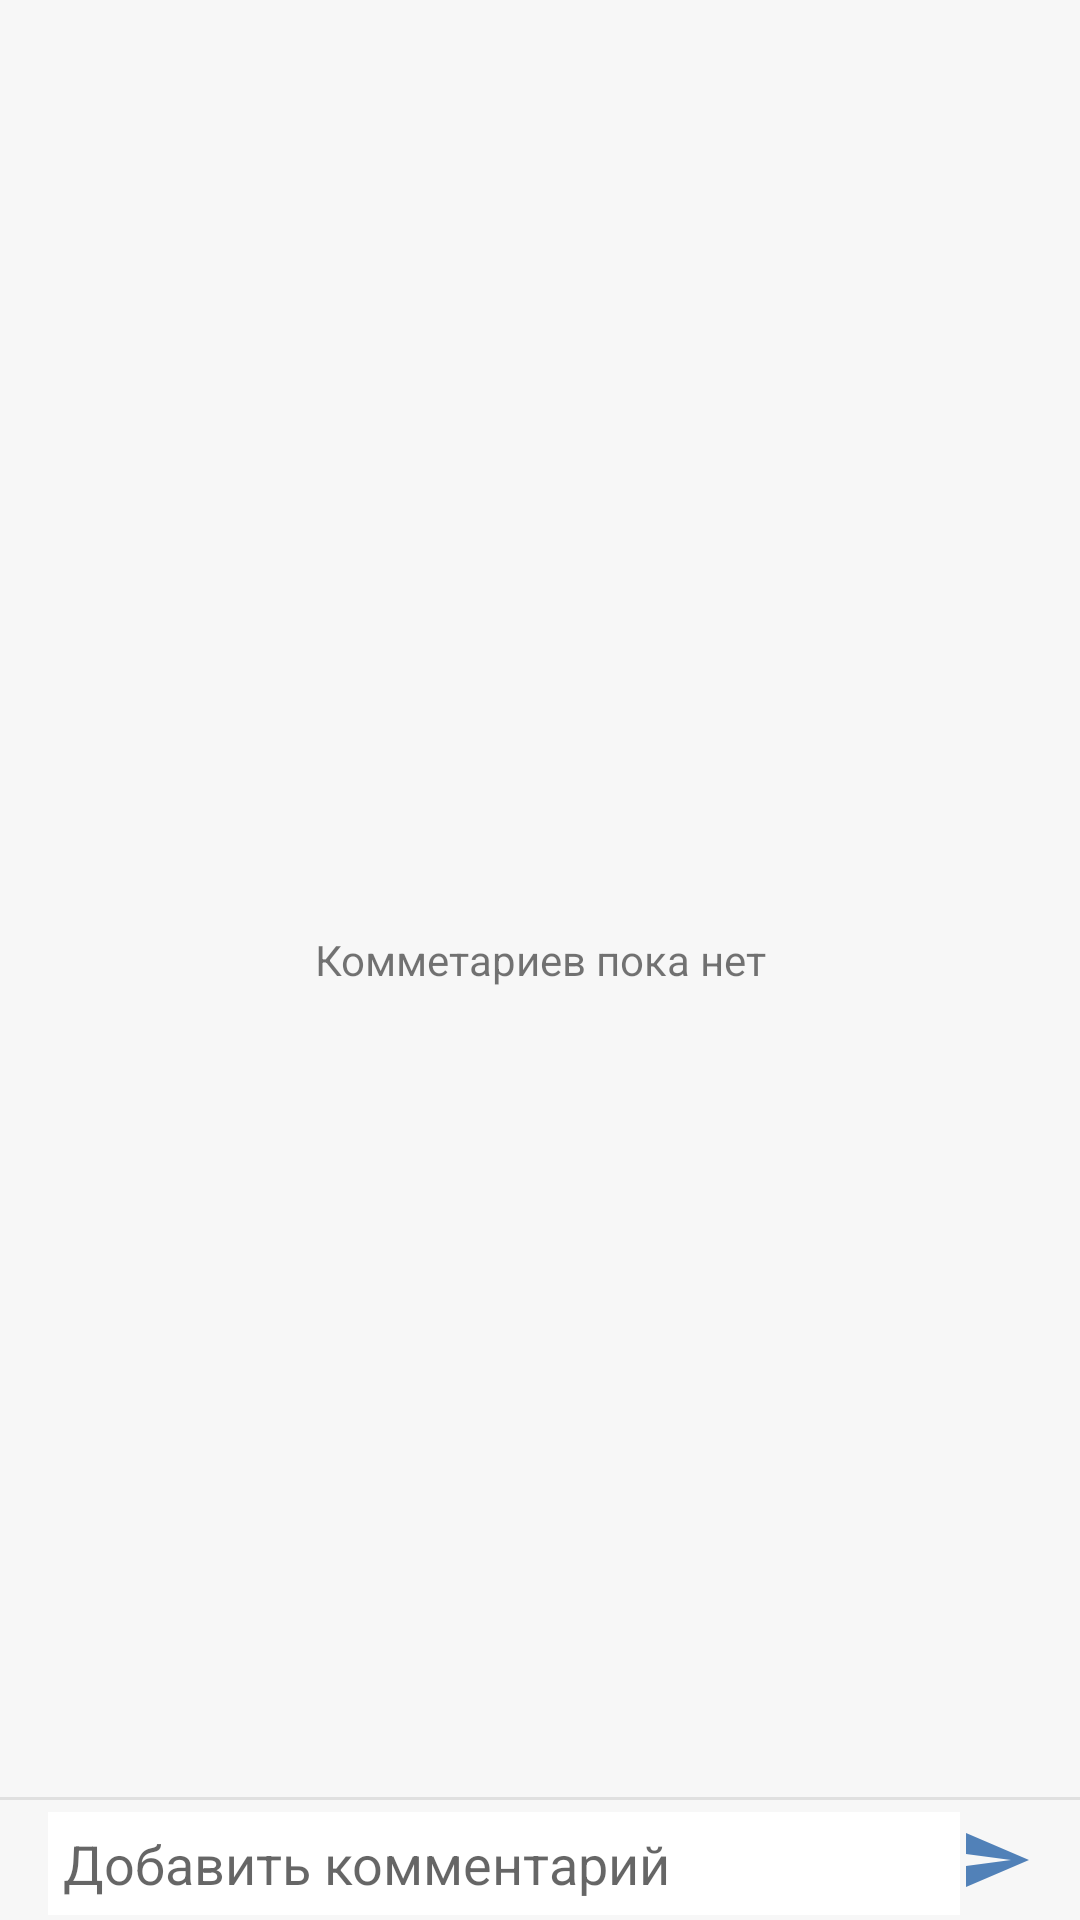

Screen size 1080×1920. Icon name, then its box in pixels as (x1, y1, x2, y2):
send: (966, 1833, 1029, 1887)
